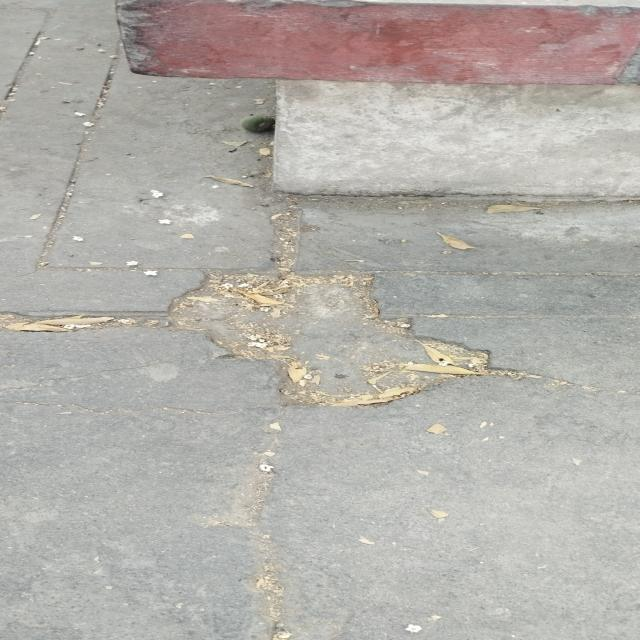hole: (156, 269, 492, 411)
